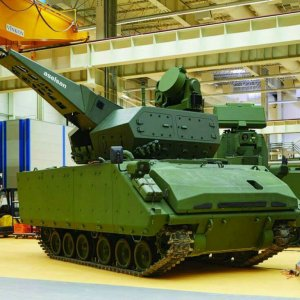Battle Tank: (14, 94, 299, 275)
